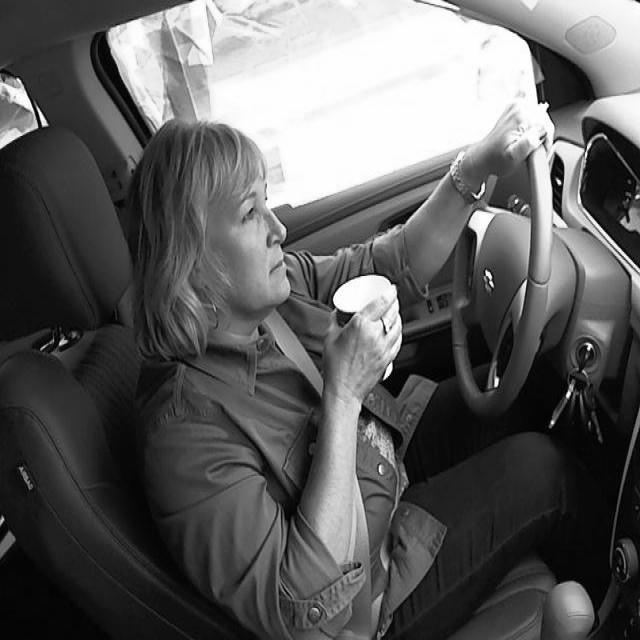Drinking: (331, 273, 401, 383)
